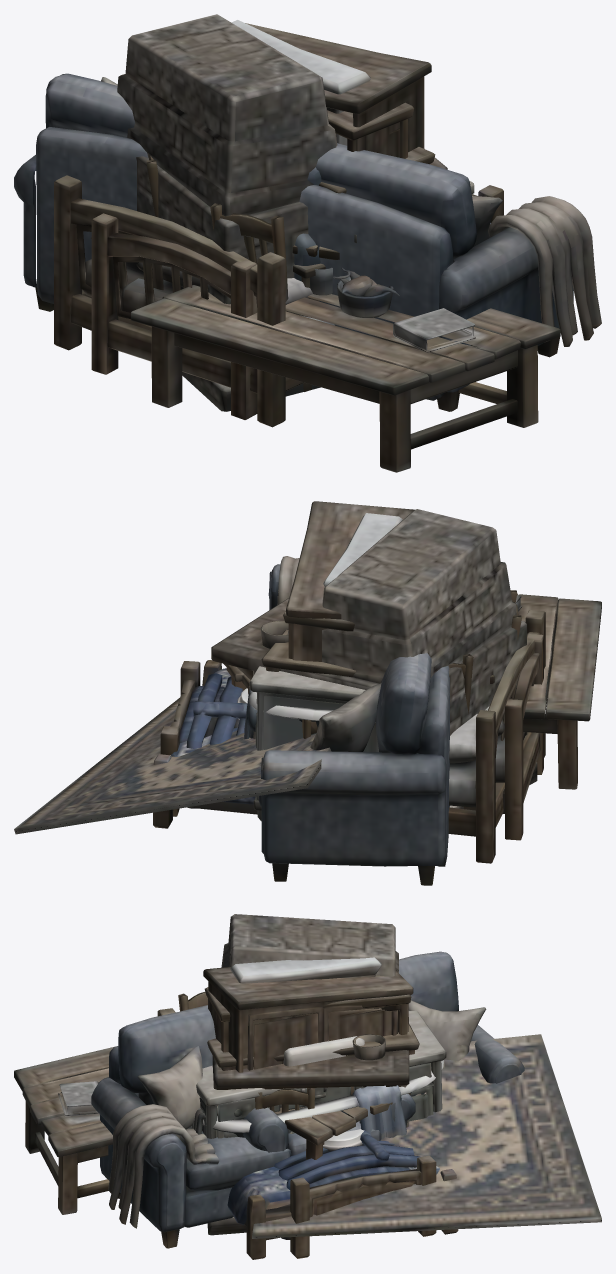
File: furniture.glb
3 renders of one model, top to bottom at view 1: azimuth 30°, elevation 25°; view 2: azimuth 150°, elevation 25°; view 3: azimuth 270°, elevation 25°, orthographic. The views are drawn at different scales.
Parts seen in each view (by area): view 1: sofa, rug, fireplace, singlebed, doublebed, tall14, dining, tallwhite, wardrobe, armchair; view 2: sofa, fireplace, rug, singlebed, doublebed, tall14, counter, tallwhite, dining, coffeetable, bathtub, wardrobe; view 3: rug, sofa, fireplace, tall14, singlebed, counter, bathtub, doublebed, tallwhite, dining, armchair, wardrobe (+4 smaller).
Boxes of the visible parts, x1,y1,x2,y2 form: sofa: (14, 73, 601, 411); rug: (131, 267, 560, 472); fireplace: (117, 14, 447, 411); singlebed: (91, 185, 503, 419); doublebed: (54, 175, 490, 427); tall14: (245, 23, 431, 154); dining: (146, 153, 339, 311); tallwhite: (231, 20, 370, 145); wardrobe: (327, 102, 413, 158); armchair: (294, 167, 321, 281); sofa: (259, 556, 449, 885); fireplace: (211, 509, 537, 808); rug: (14, 594, 601, 834); singlebed: (160, 634, 543, 840); doublebed: (153, 610, 545, 863); tall14: (286, 501, 414, 661); counter: (249, 666, 378, 821); tallwhite: (323, 513, 402, 586); dining: (223, 590, 521, 738); coffeetable: (261, 629, 355, 677); bathtub: (244, 688, 375, 739); wardrobe: (283, 611, 354, 658); rug: (14, 1034, 601, 1238); sofa: (91, 951, 524, 1248); fireplace: (207, 914, 409, 1235); tall14: (203, 966, 413, 1072); singlebed: (274, 1130, 436, 1258); counter: (190, 1010, 446, 1138); bathtub: (193, 1060, 443, 1139); doublebed: (157, 1008, 458, 1259); tallwhite: (230, 957, 381, 983); dining: (178, 992, 410, 1159); armchair: (243, 1094, 415, 1155); wardrobe: (204, 970, 411, 1052).
Bounding box in the file's own units: 0.2383 × 0.1533 × 0.3584.
Materials: 1 (1 with a texture image).
